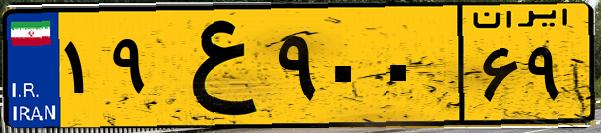0: (385, 28, 445, 110), (330, 28, 385, 110)
1: (57, 26, 110, 100)
6: (475, 38, 525, 113)
9: (270, 28, 330, 110), (525, 38, 570, 115), (110, 28, 158, 98)
ع: (158, 12, 270, 120)
